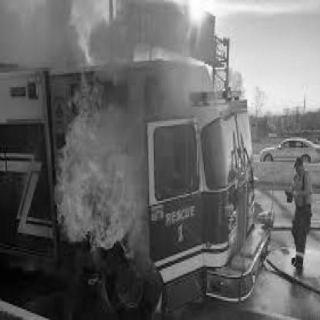Fire: (50, 74, 144, 254)
